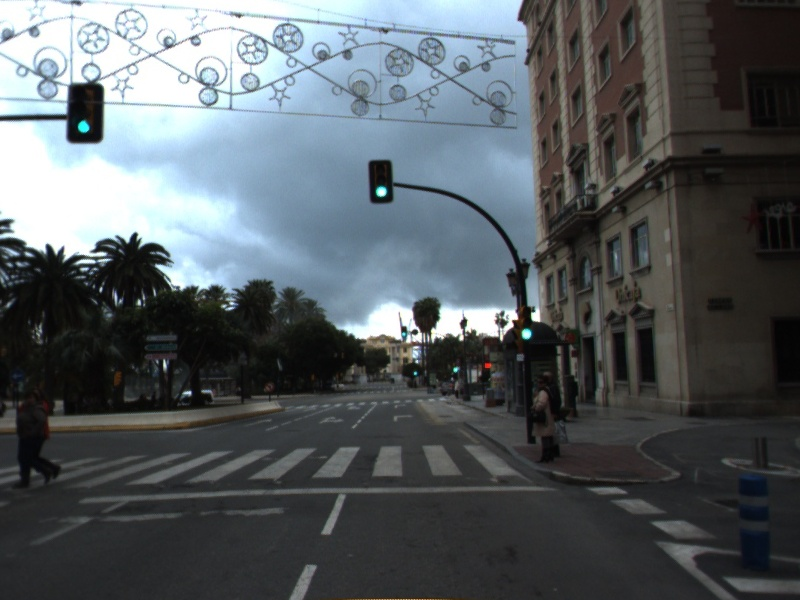RIGHT: (391, 412, 416, 423)
STRAIGHT: (242, 417, 274, 429)
STRAIGHT_RIGHT: (316, 414, 347, 426)
